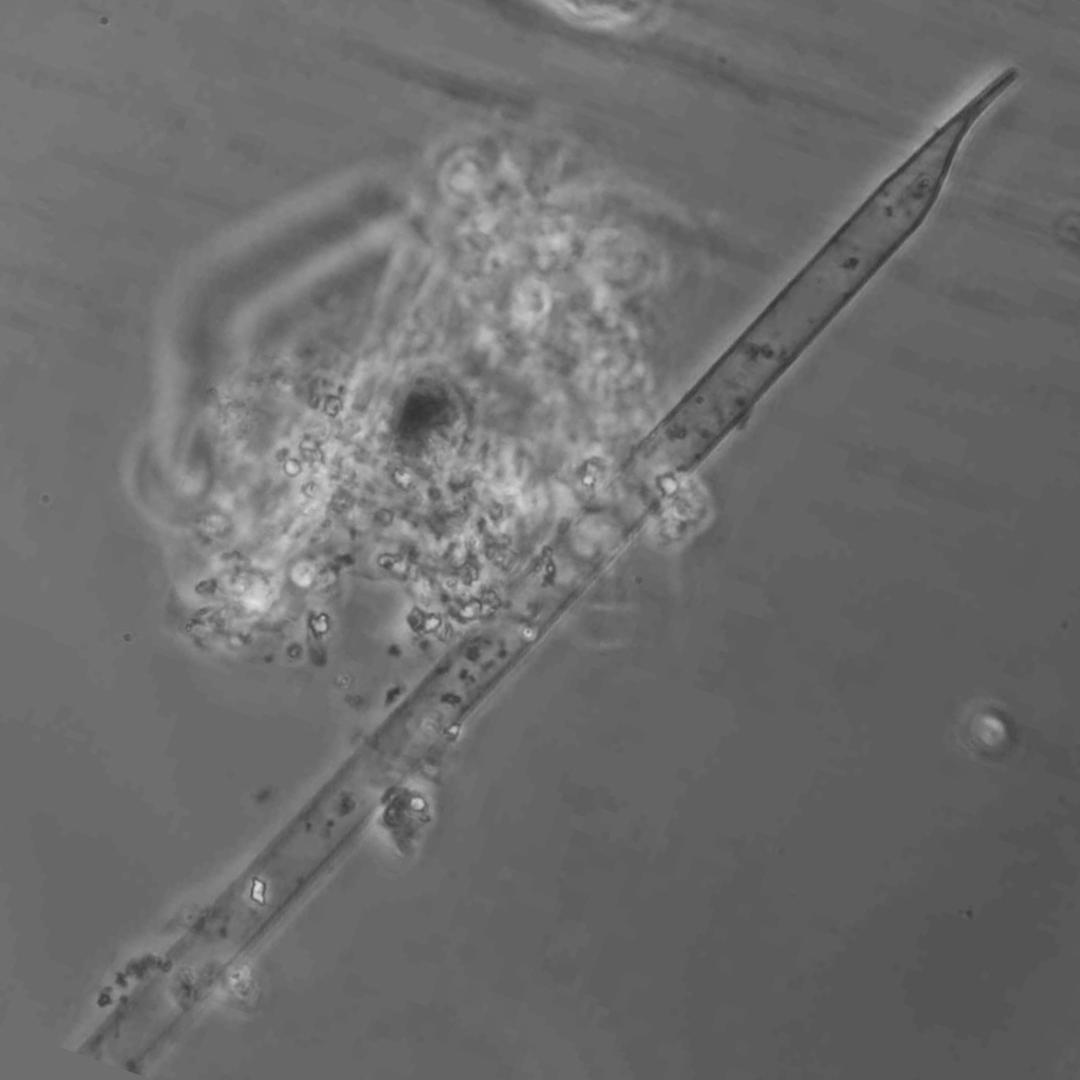proboscia_alata: (73, 68, 1019, 1073)
